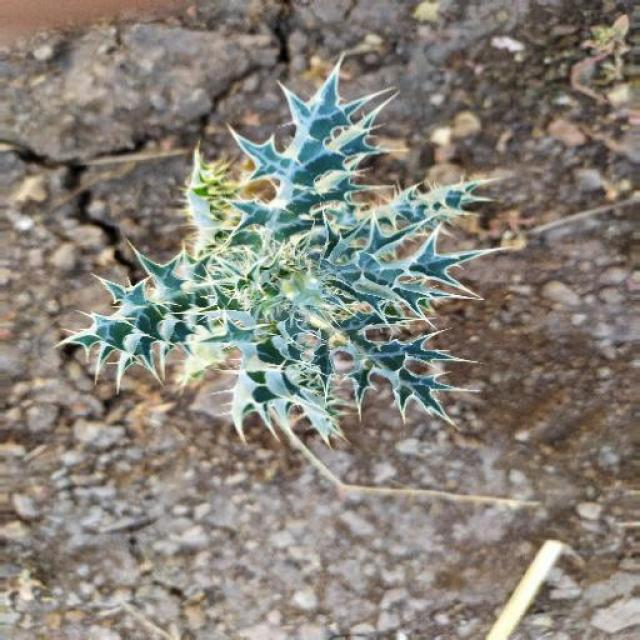weed: (68, 60, 482, 446)
